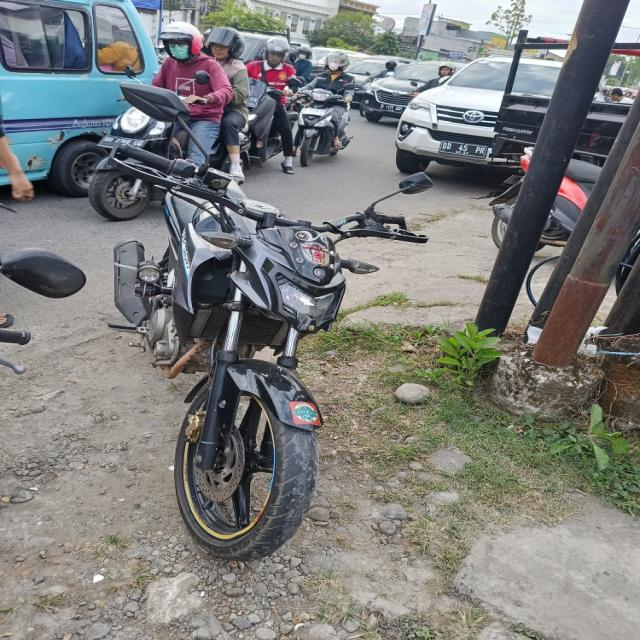plates: (428, 141, 506, 163)
